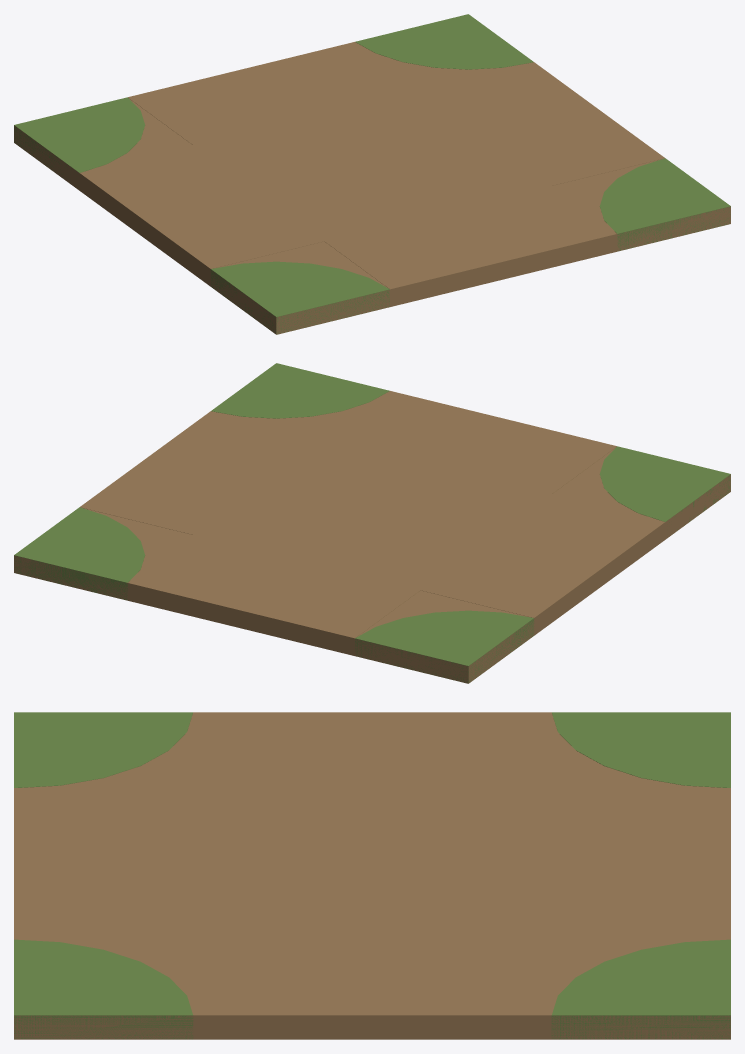
File: Road_1Lane_Dirt_NoSidewalk_Intersection_4Way.glb
The picture shows the model from 3 angles, top to bottom: view 1: azimuth 30°, elevation 25°; view 2: azimuth 150°, elevation 25°; view 3: azimuth 270°, elevation 25°; orthographic projection. The views are drawn at different scales.
Visible parts, largest first — view 1: Road_1Lane_Dirt_NoSidewalk_Intersection_4Way_Dirt, Road_1Lane_Dirt_NoSidewalk_Intersection_4Way_Grass-edge; view 2: Road_1Lane_Dirt_NoSidewalk_Intersection_4Way_Dirt, Road_1Lane_Dirt_NoSidewalk_Intersection_4Way_Grass-edge; view 3: Road_1Lane_Dirt_NoSidewalk_Intersection_4Way_Dirt, Road_1Lane_Dirt_NoSidewalk_Intersection_4Way_Grass-edge.
Part boxes in pixels (left/top/right/bottom): Road_1Lane_Dirt_NoSidewalk_Intersection_4Way_Dirt: left=14, top=42, right=730, bottom=334; Road_1Lane_Dirt_NoSidewalk_Intersection_4Way_Grass-edge: left=14, top=14, right=730, bottom=334; Road_1Lane_Dirt_NoSidewalk_Intersection_4Way_Dirt: left=14, top=391, right=730, bottom=683; Road_1Lane_Dirt_NoSidewalk_Intersection_4Way_Grass-edge: left=14, top=363, right=730, bottom=683; Road_1Lane_Dirt_NoSidewalk_Intersection_4Way_Dirt: left=14, top=712, right=730, bottom=1039; Road_1Lane_Dirt_NoSidewalk_Intersection_4Way_Grass-edge: left=14, top=712, right=730, bottom=1039.
Bounding box in the file's own units: 8 × 0.3 × 8.
